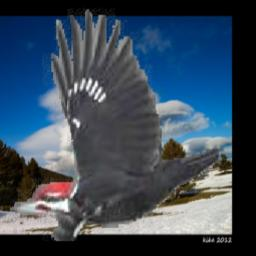Woodpecker: (11, 7, 227, 241)
